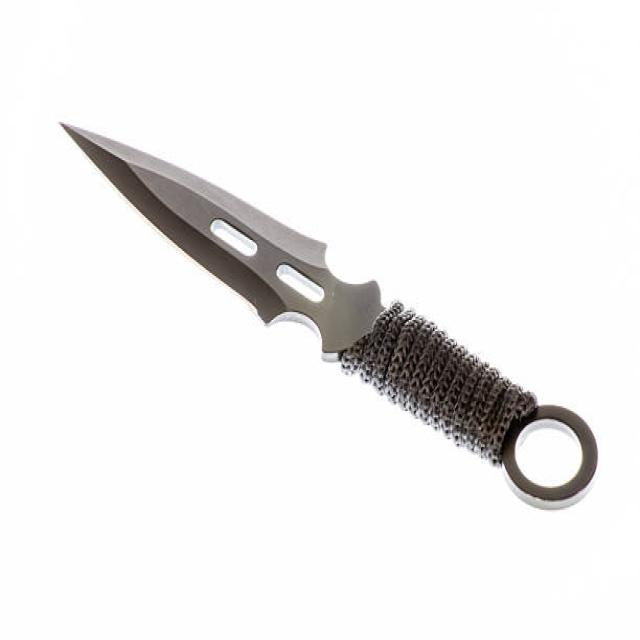knife: (56, 110, 607, 519)
